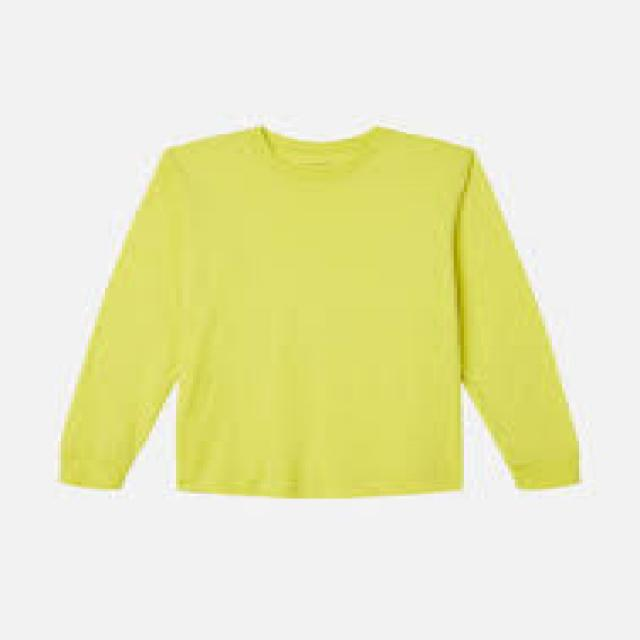plain: (65, 107, 587, 500)
